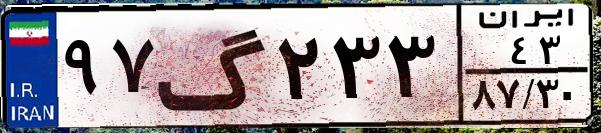0: (560, 70, 590, 125)
2: (270, 28, 330, 110)
3: (385, 28, 445, 110), (330, 28, 385, 110), (537, 27, 568, 80), (535, 70, 560, 125)
4: (508, 27, 537, 80)
7: (110, 28, 156, 98), (495, 70, 520, 125)
8: (470, 70, 495, 125)
9: (57, 26, 110, 100)
گ: (156, 12, 270, 120)
